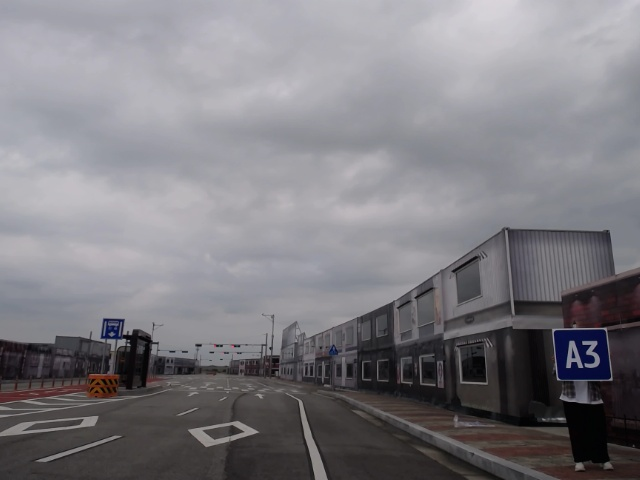delivery_a3: (552, 328, 612, 381)
